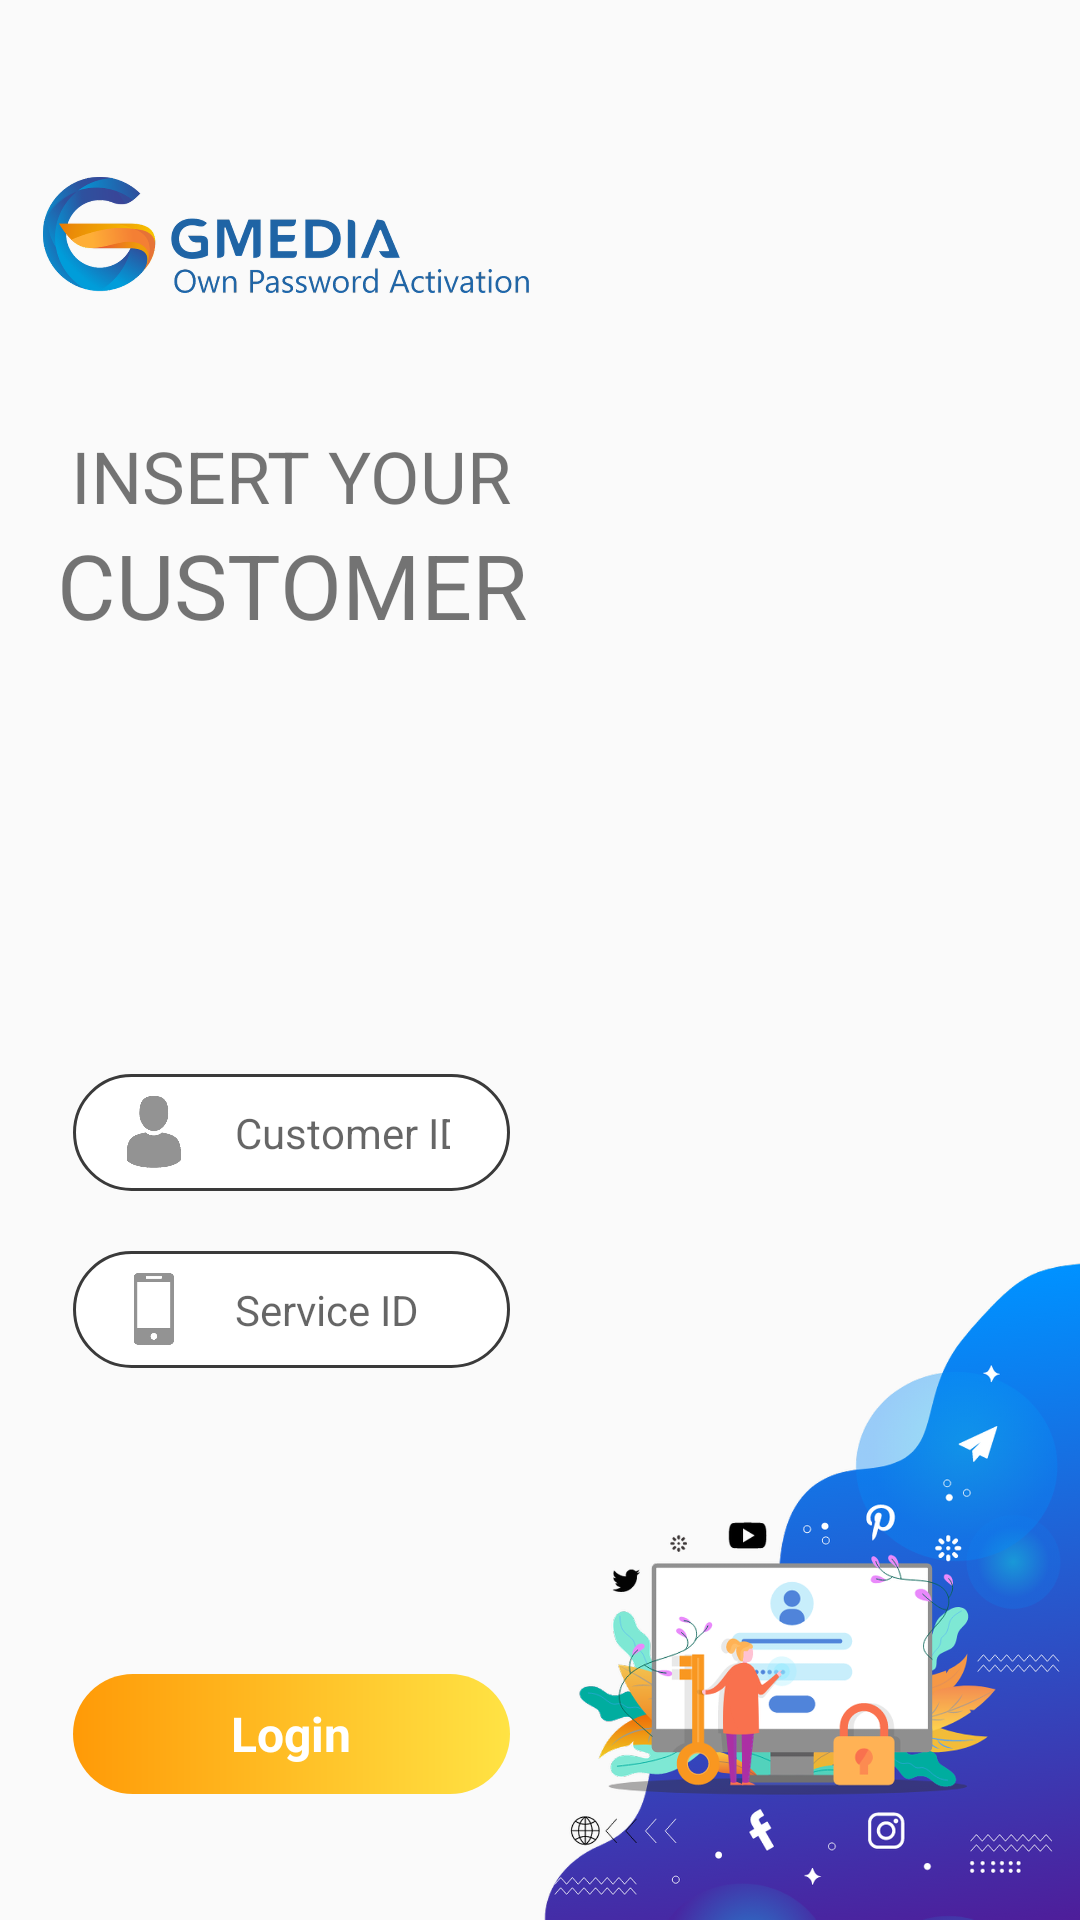

Screen size 1080 x 1920. Icon name, then its box in pixels as (x1, y1, x2, y2):
phone: (134, 1273, 174, 1345)
user: (127, 1096, 181, 1168)
